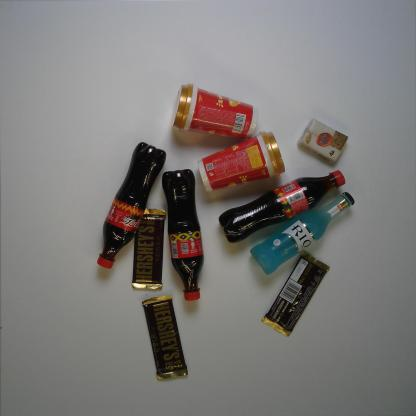Alcohol: (249, 191, 356, 275)
Chocolate: (260, 249, 335, 339), (140, 294, 190, 384), (128, 206, 168, 292)
Drink: (216, 168, 349, 245), (94, 140, 167, 274), (160, 167, 206, 303)
Instant Drink: (195, 130, 289, 195), (168, 82, 260, 139)
Tissue: (295, 118, 353, 166)
